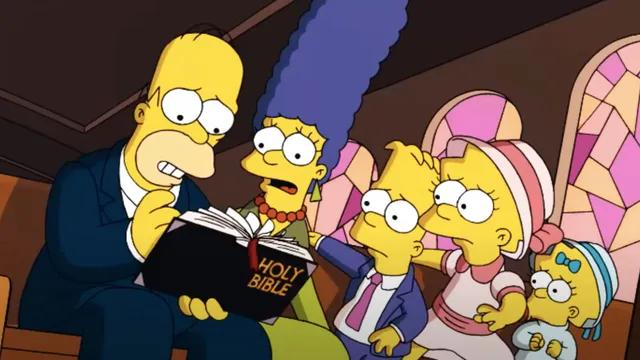Bart: (358, 132, 447, 305)
Homer: (83, 24, 247, 309)
Lisa: (417, 132, 574, 284)
Maggie: (513, 234, 626, 345)
Marge: (250, 3, 397, 282)
